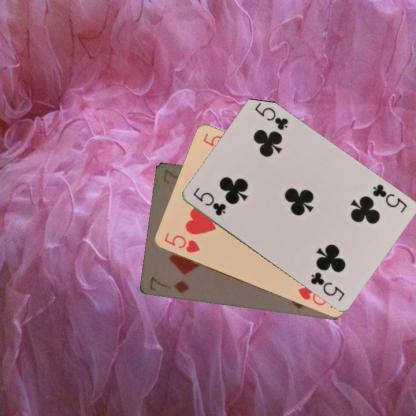5c: (369, 181, 408, 214), (190, 184, 227, 218)
5h: (161, 230, 201, 255)
7d: (146, 274, 190, 296)
